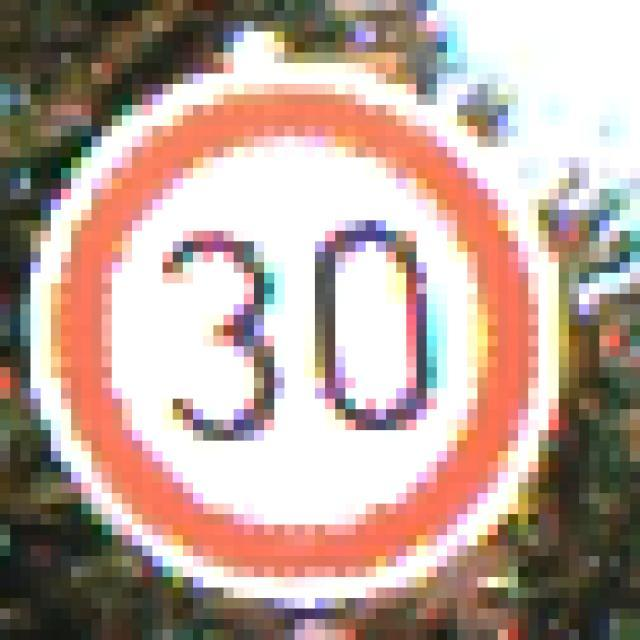Speed Limit -30-: (46, 48, 584, 582)
